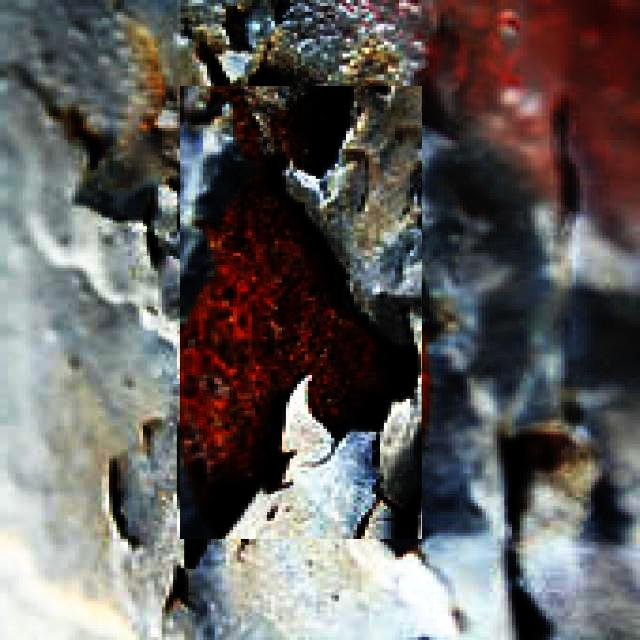Corrosion: (179, 104, 414, 538), (287, 86, 352, 176), (197, 42, 228, 85)
